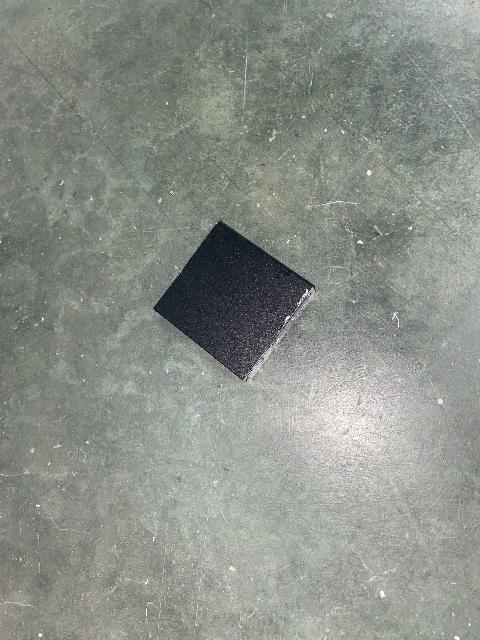Metal: (152, 219, 317, 383)
